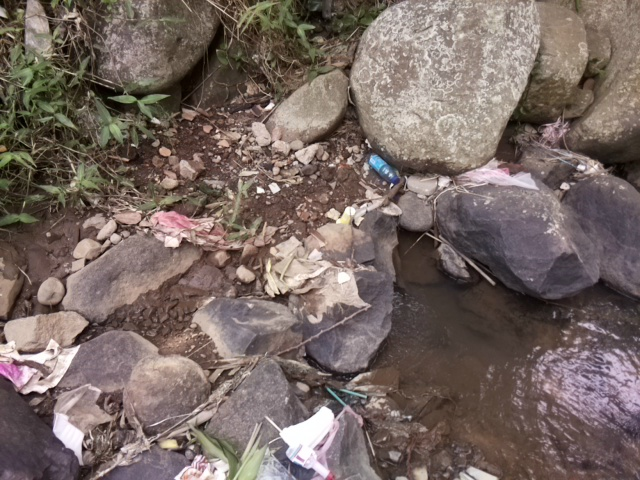Sampah_Botol_Plastik: (364, 148, 400, 185)
Sampah_Plastik: (1, 342, 85, 397), (145, 211, 249, 252), (452, 158, 538, 192), (524, 120, 569, 148)
Sampah_Styrofoam: (280, 404, 334, 448), (334, 205, 358, 228)
